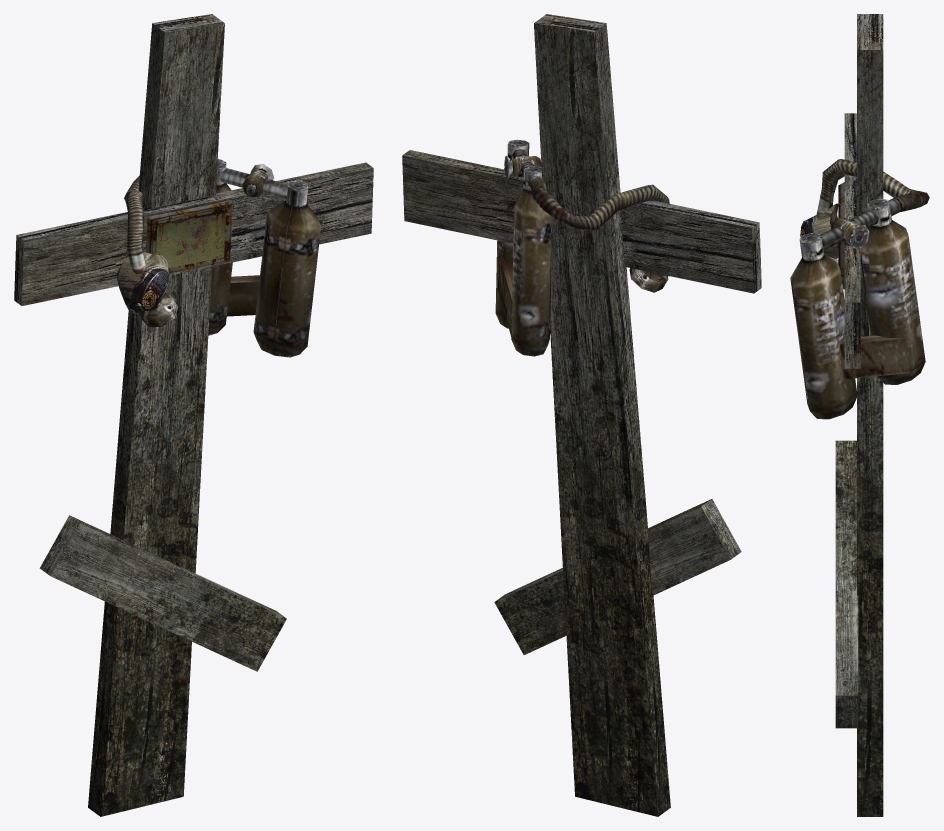
File: tomb3.fbx
The picture shows the model from 3 angles, left to right: view 1: azimuth 30°, elevation 25°; view 2: azimuth 150°, elevation 25°; view 3: azimuth 270°, elevation 25°; orthographic projection. The views are drawn at different scales.
Parts seen in each view (by area): view 1: tomb_3.object; view 2: tomb_3.object; view 3: tomb_3.object.
Boxes of the visible parts, x1,y1,x2,y2 form: tomb_3.object: (14,14,373,816); tomb_3.object: (402,14,761,816); tomb_3.object: (790,14,929,816).
Bounding box in the file's own units: 104 × 217 × 34.57.
